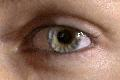eye: (48, 27, 80, 51)
